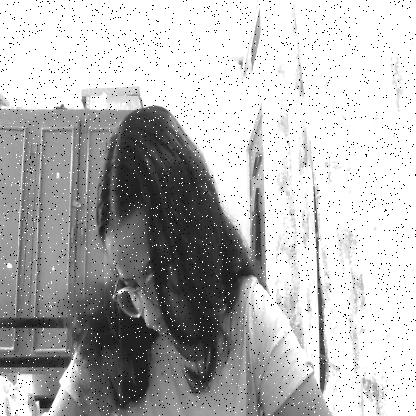Distracted: (104, 195, 178, 354)
